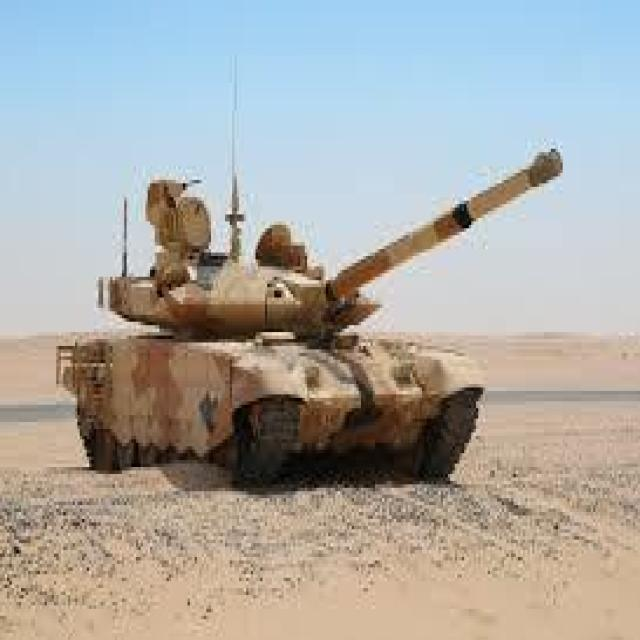Tanks: (43, 178, 489, 497)
